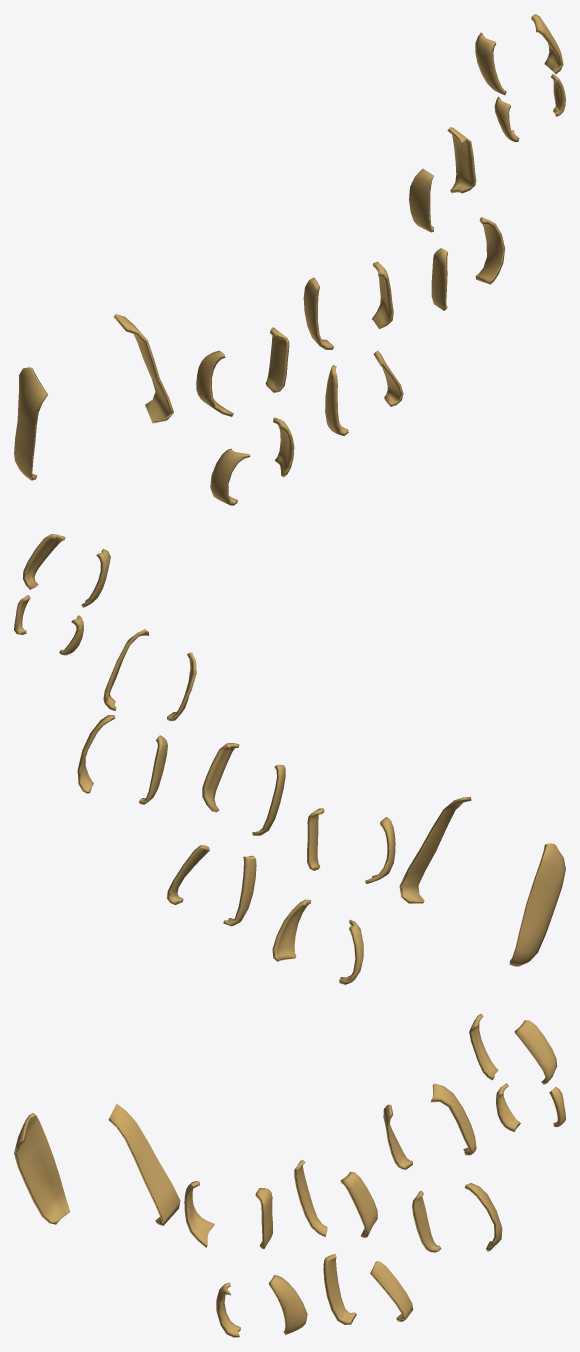
3 renders of one model, top to bottom at view 1: azimuth 30°, elevation 25°; view 2: azimuth 150°, elevation 25°; view 3: azimuth 330°, elevation 25°, orthographic. The views are drawn at different scales.
Visible parts, largest first — view 1: 左侧足趾间关节侧副韧带; view 2: 左侧足趾间关节侧副韧带; view 3: 左侧足趾间关节侧副韧带.
Part boxes in pixels (x1=…): 左侧足趾间关节侧副韧带: x1=14, y1=14, x2=565, y2=505; 左侧足趾间关节侧副韧带: x1=14, y1=534, x2=565, y2=984; 左侧足趾间关节侧副韧带: x1=14, y1=1014, x2=565, y2=1337.
Size of the model in its own units: 0.115 by 0.0802 by 0.0136.
